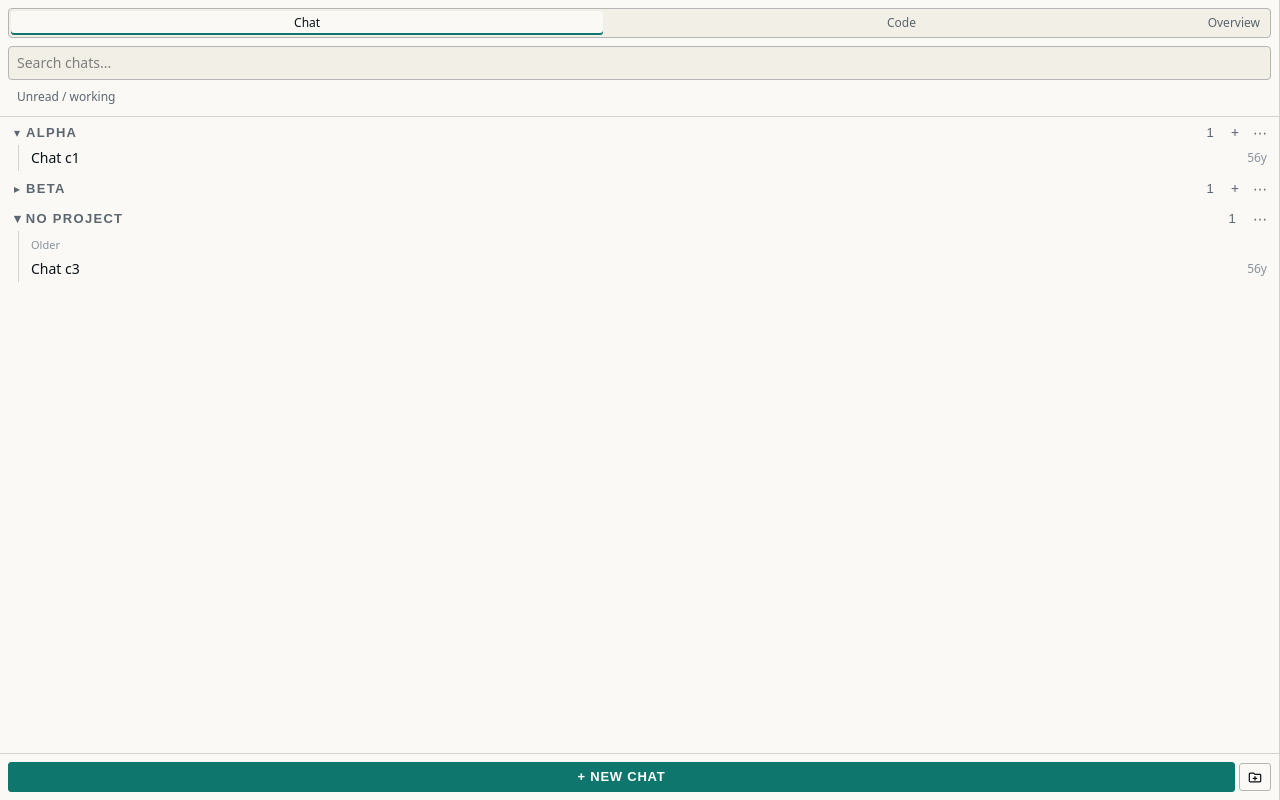
it: ChatList groups › searching filters every group, hides groups without a match, and shows collapsed groups expanded
The width and height of the screenshot is (1280, 800).
Type "x" into the search field labelled "Search chats".
click(640, 63); type("x")  # box [8,46,1271,80]
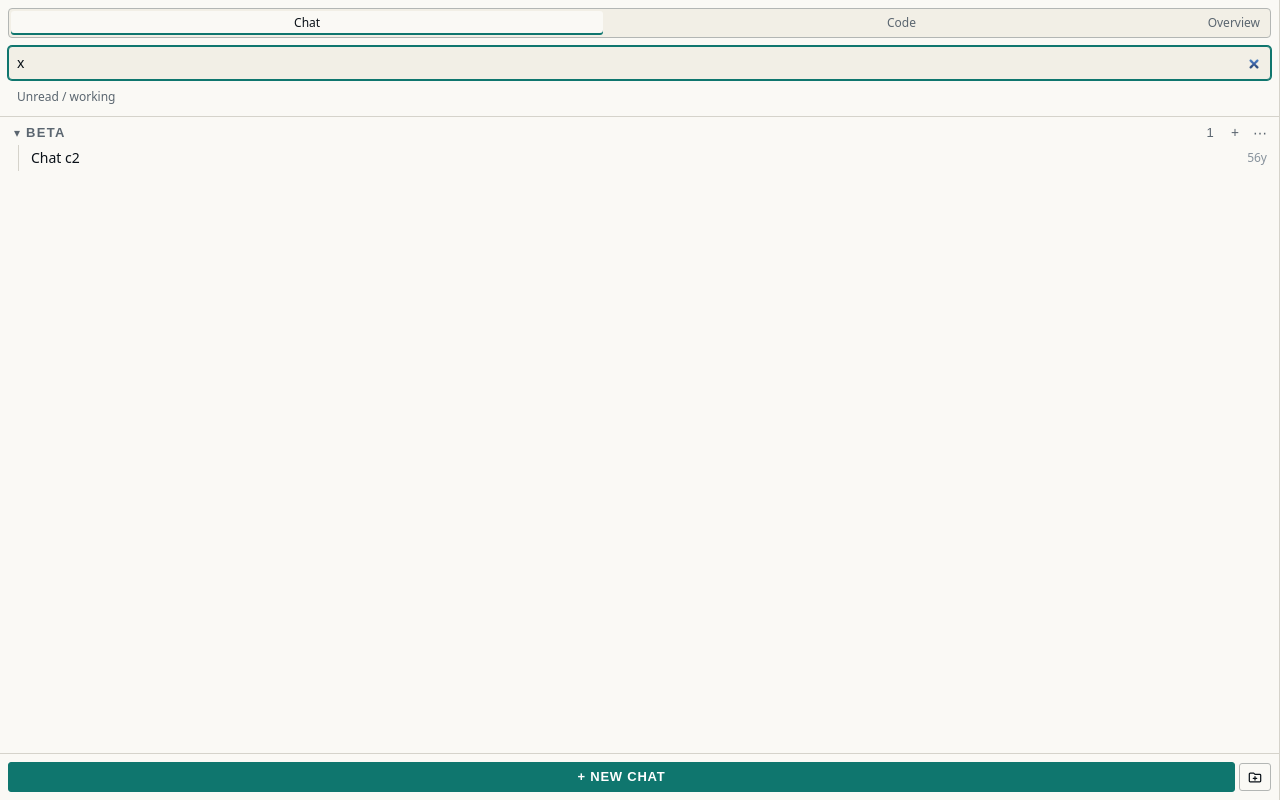
Now the element with test id "group-p-a" is gone
Clear the search field named "Search chats" at [640, 63], box [8,46,1271,80]
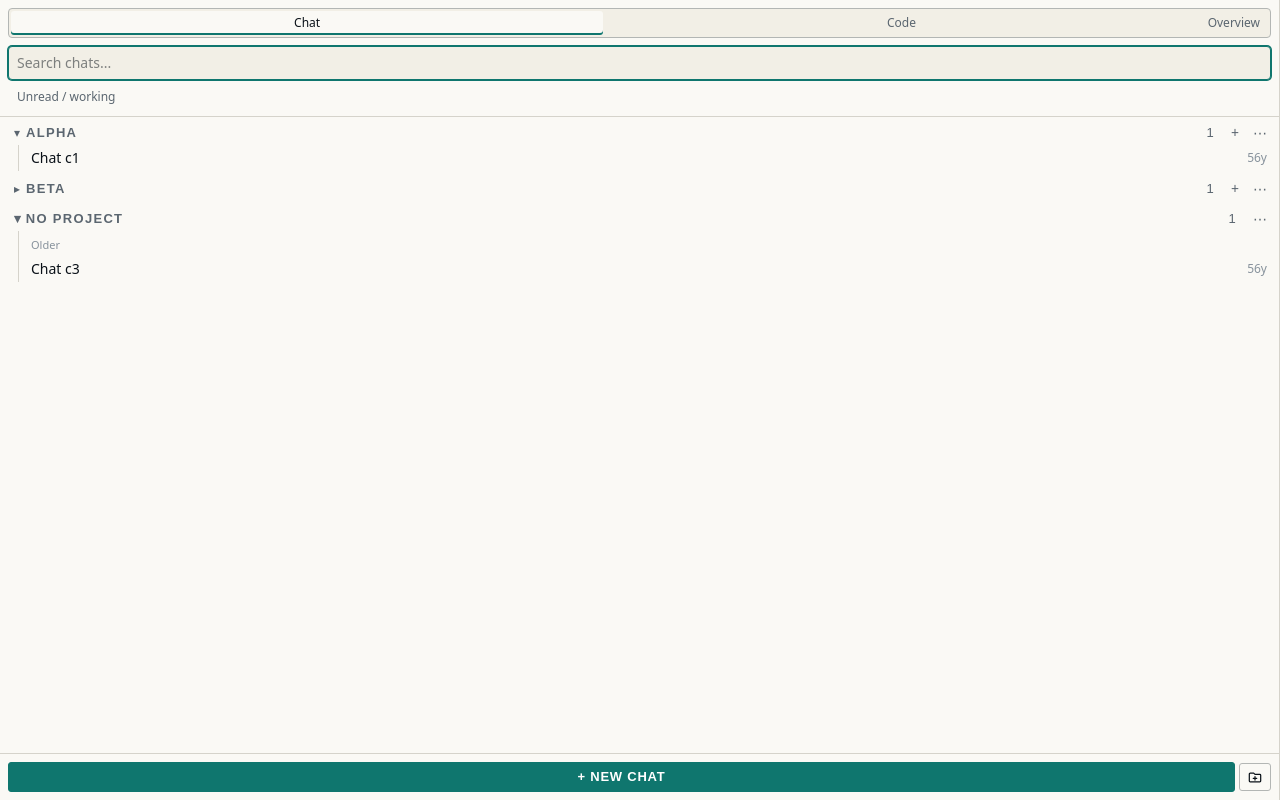
Now the element with test id "group-p-a" is shown, box [6,121,1273,171]
